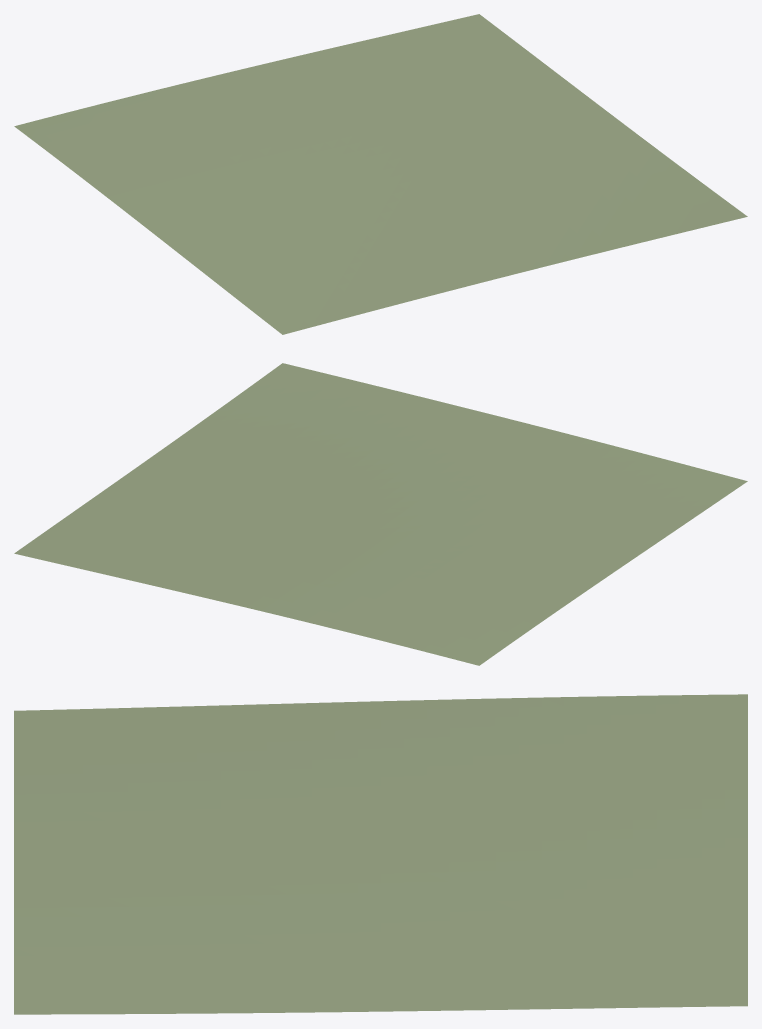
Rendered from expanse-7-1.glb.
3 renders of one model, top to bottom at view 1: azimuth 30°, elevation 25°; view 2: azimuth 150°, elevation 25°; view 3: azimuth 270°, elevation 25°, orthographic. The views are drawn at different scales.
Visible parts, largest first — view 1: expanse-7-1; view 2: expanse-7-1; view 3: expanse-7-1.
Boxes of the visible parts, x1=… form: expanse-7-1: x1=14, y1=14, x2=747, y2=334; expanse-7-1: x1=14, y1=363, x2=747, y2=665; expanse-7-1: x1=14, y1=694, x2=747, y2=1014.
Bounding box in the file's own units: 256 × 7.13 × 256.
